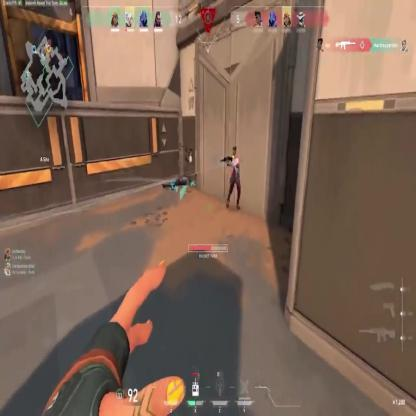enemy: (226, 147, 243, 210)
enemy_head: (232, 144, 237, 156)
